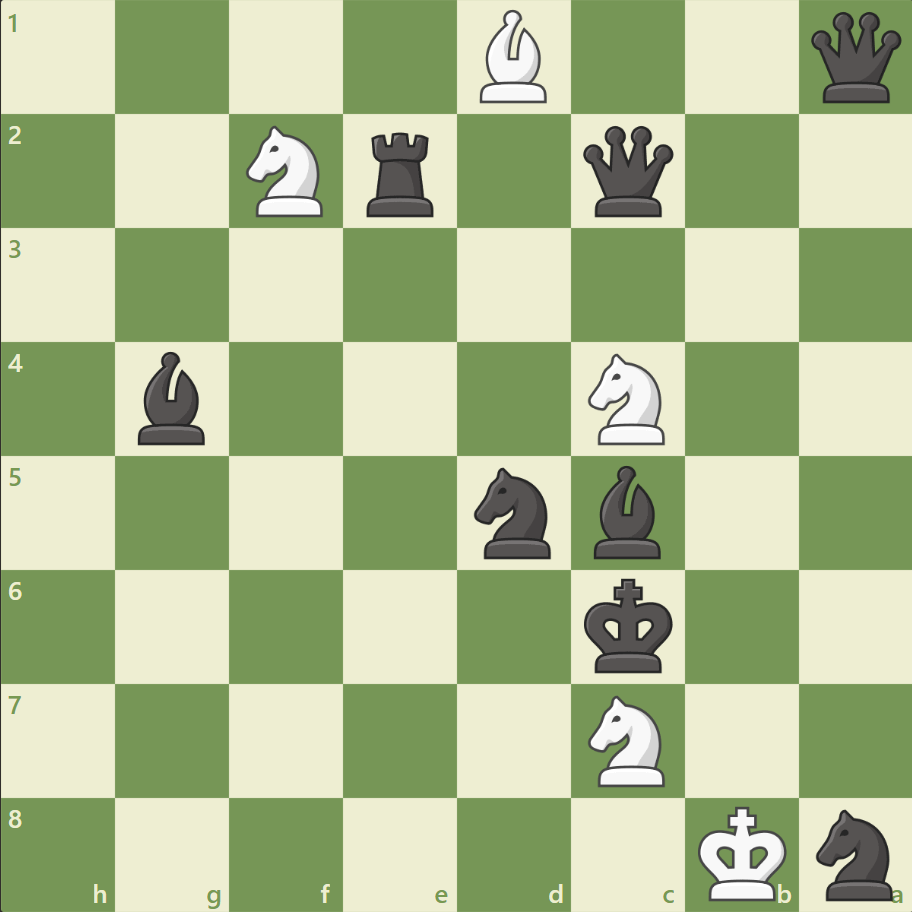B: (471, 6, 555, 109)
K: (692, 798, 792, 906)
N: (579, 688, 676, 791), (579, 348, 676, 450), (238, 121, 335, 223)
b: (585, 460, 669, 563), (131, 347, 215, 449)
k: (579, 571, 679, 679)
n: (465, 461, 562, 564), (806, 802, 903, 904)
q: (578, 122, 677, 222), (805, 9, 904, 108)
r: (360, 125, 442, 222)
